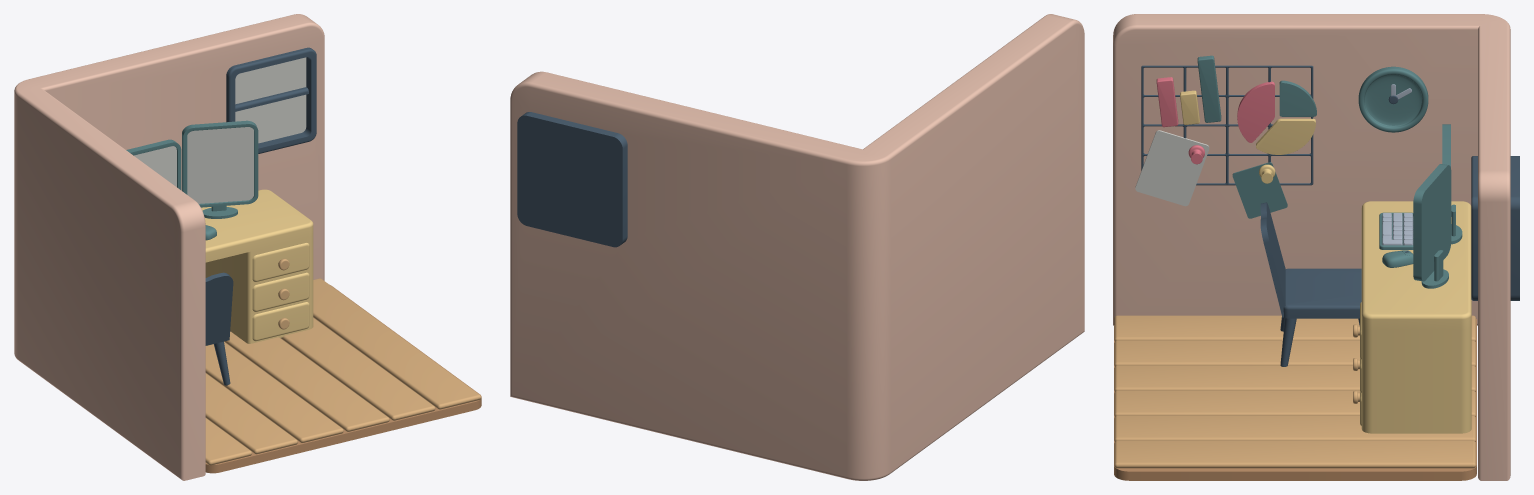
The model's file is house2.glb.
3 renders of one model, left to right at view 1: azimuth 30°, elevation 25°; view 2: azimuth 150°, elevation 25°; view 3: azimuth 270°, elevation 25°, orthographic. The views are drawn at different scales.
Visible parts, largest first — view 1: Wall, Floor - 2, Table, Window, Monitor - 2, Floor - 1, Chair, Monitor - 1; view 2: Wall, Window; view 3: Wall, Floor - 2, Table, Chair, Floor - 1, Chart - 2, Clock, Monitor - 2, Paper - 1, Chart - 1, Window, Framework (+4 smaller).
Part boxes in pixels (x1,y1,x2,y2): Wall: [14, 14, 324, 480]; Floor - 2: [205, 278, 481, 465]; Table: [201, 189, 313, 343]; Window: [226, 47, 316, 153]; Monitor - 2: [182, 120, 258, 207]; Floor - 1: [205, 285, 481, 473]; Chair: [205, 272, 233, 385]; Monitor - 1: [126, 139, 181, 189]; Wall: [510, 14, 1084, 480]; Window: [517, 112, 627, 247]; Wall: [1113, 14, 1510, 480]; Floor - 2: [1114, 315, 1475, 468]; Table: [1353, 201, 1471, 433]; Chair: [1260, 202, 1361, 366]; Floor - 1: [1114, 319, 1476, 480]; Chart - 2: [1237, 80, 1316, 154]; Clock: [1358, 66, 1428, 132]; Monitor - 2: [1413, 164, 1451, 281]; Paper - 1: [1135, 130, 1209, 206]; Chart - 1: [1156, 55, 1221, 127]; Window: [1471, 156, 1519, 300]; Framework: [1141, 65, 1313, 185].
Size of the model in its own units: 2.98 by 2.49 by 3.05.
